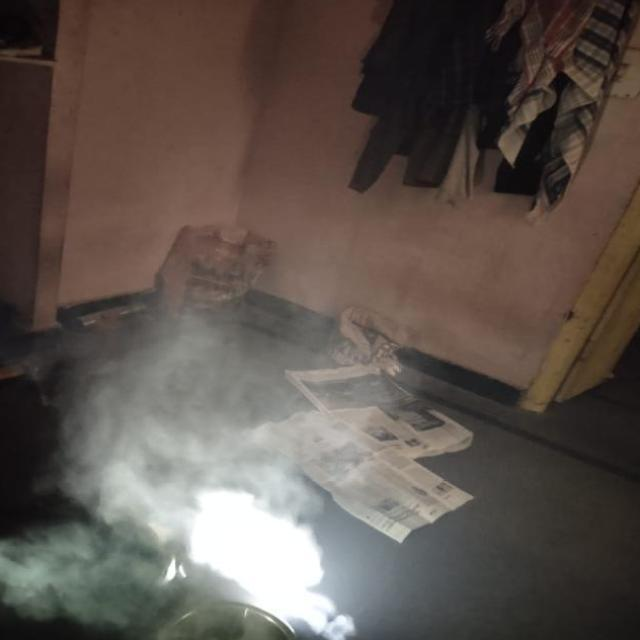fire: (49, 328, 394, 540)
